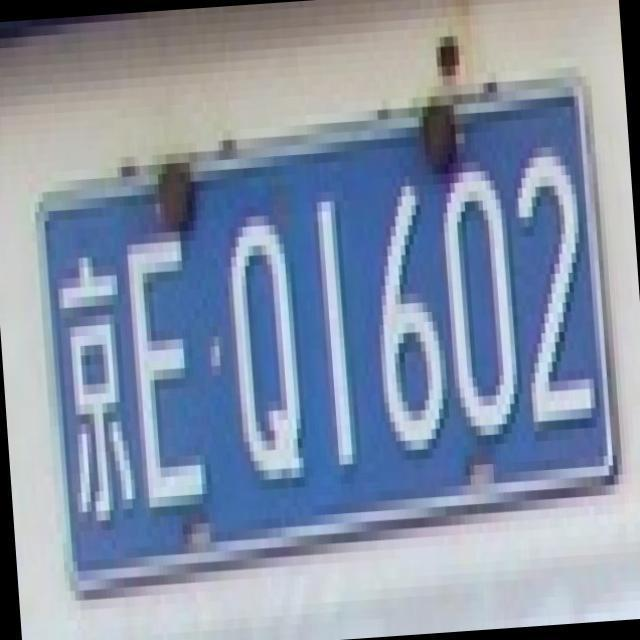License Plate: (8, 34, 640, 624)
